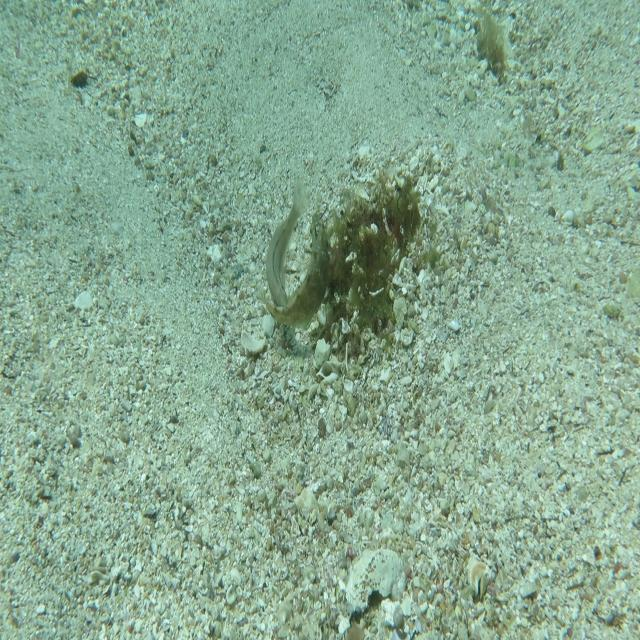DAN_CIRC: (255, 211, 331, 332)
female: (264, 178, 312, 321)
nest: (307, 167, 431, 373)
